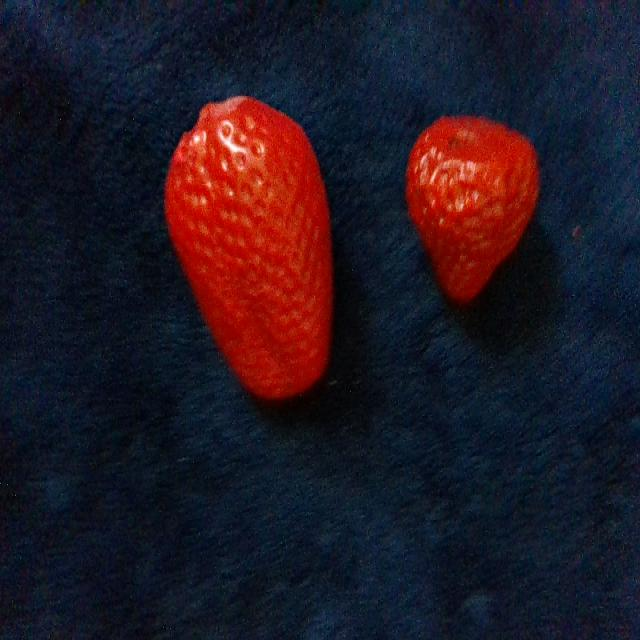chica_roja: (409, 119, 538, 301)
grande_roja: (165, 97, 332, 397)
